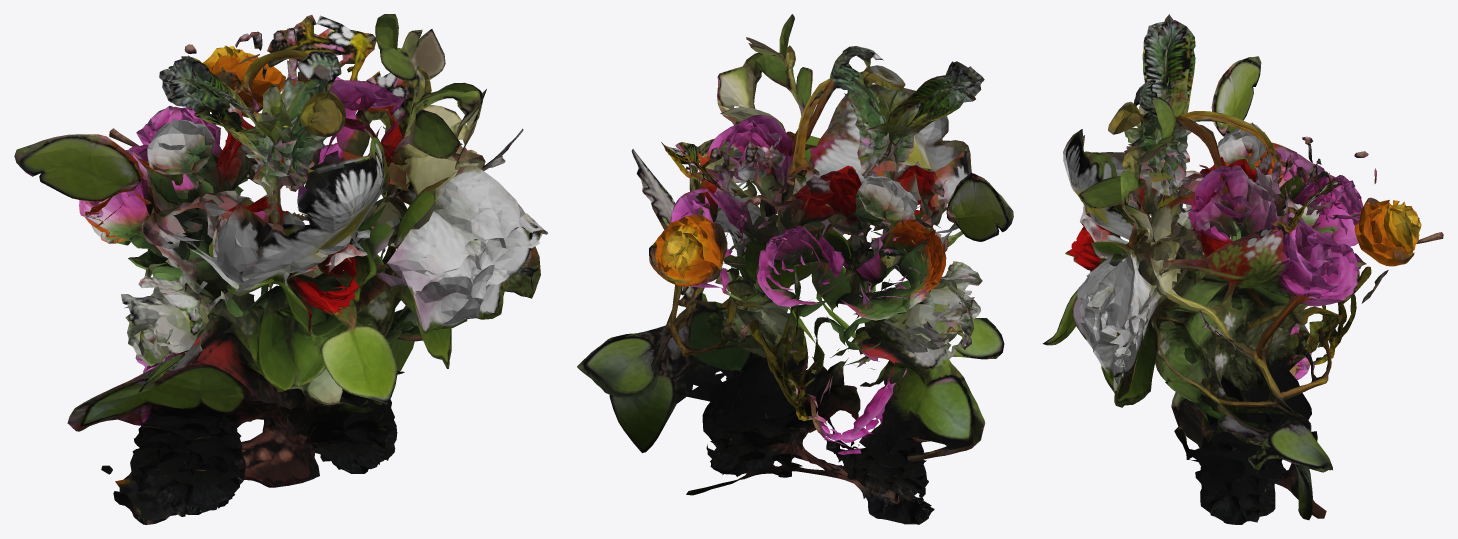
The model's file is fresh-flowers.glb.
3 renders of one model, left to right at view 1: azimuth 30°, elevation 25°; view 2: azimuth 150°, elevation 25°; view 3: azimuth 270°, elevation 25°, orthographic. The views are drawn at different scales.
Parts seen in each view (by area): view 1: world; view 2: world; view 3: world.
Boxes of the visible parts, x1,y1,x2,y2 form: world: [14, 14, 548, 524]; world: [577, 14, 1013, 524]; world: [1042, 14, 1443, 524].
Bounding box in the file's own units: 0.9986 × 1 × 0.8639.
1 material, 1 textured.
